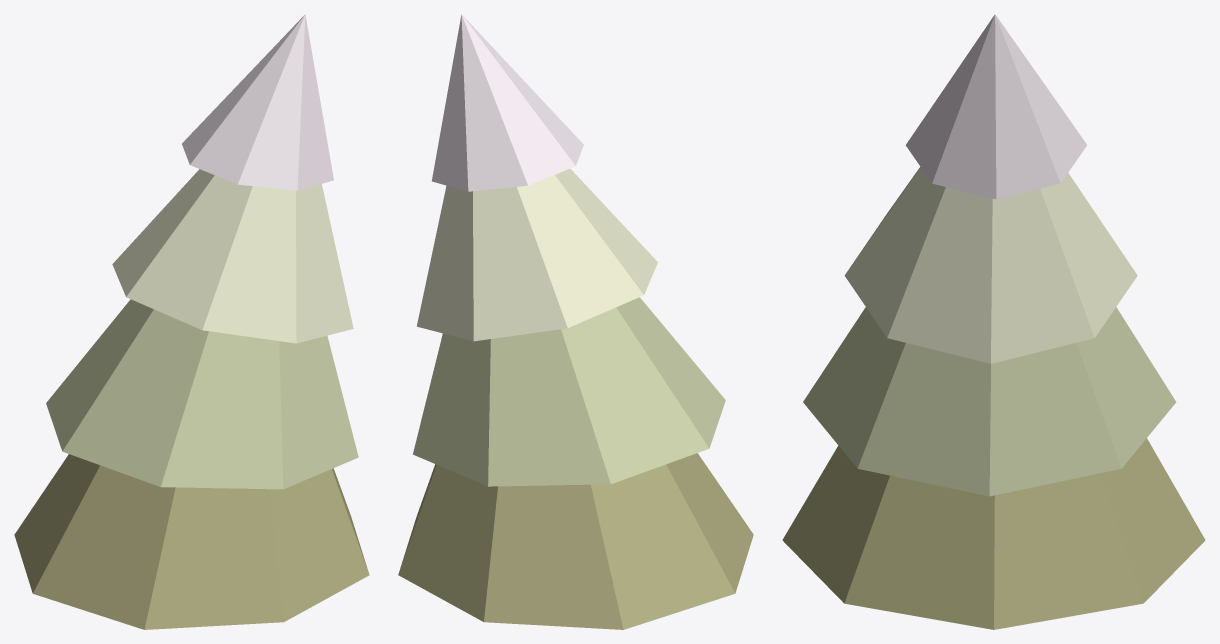
Rendered from 01_01Tree_Brown.fbx.
The picture shows the model from 3 angles, left to right: view 1: azimuth 30°, elevation 25°; view 2: azimuth 150°, elevation 25°; view 3: azimuth 270°, elevation 25°; orthographic projection. The views are drawn at different scales.
Visible parts, largest first — view 1: Cone.001; view 2: Cone.001; view 3: Cone.001.
Boxes of the visible parts, <box> form: Cone.001: <box>14,14,369,629</box>; Cone.001: <box>398,14,753,629</box>; Cone.001: <box>782,14,1205,629</box>.
Size of the model in its own units: 125 by 192 by 125.
